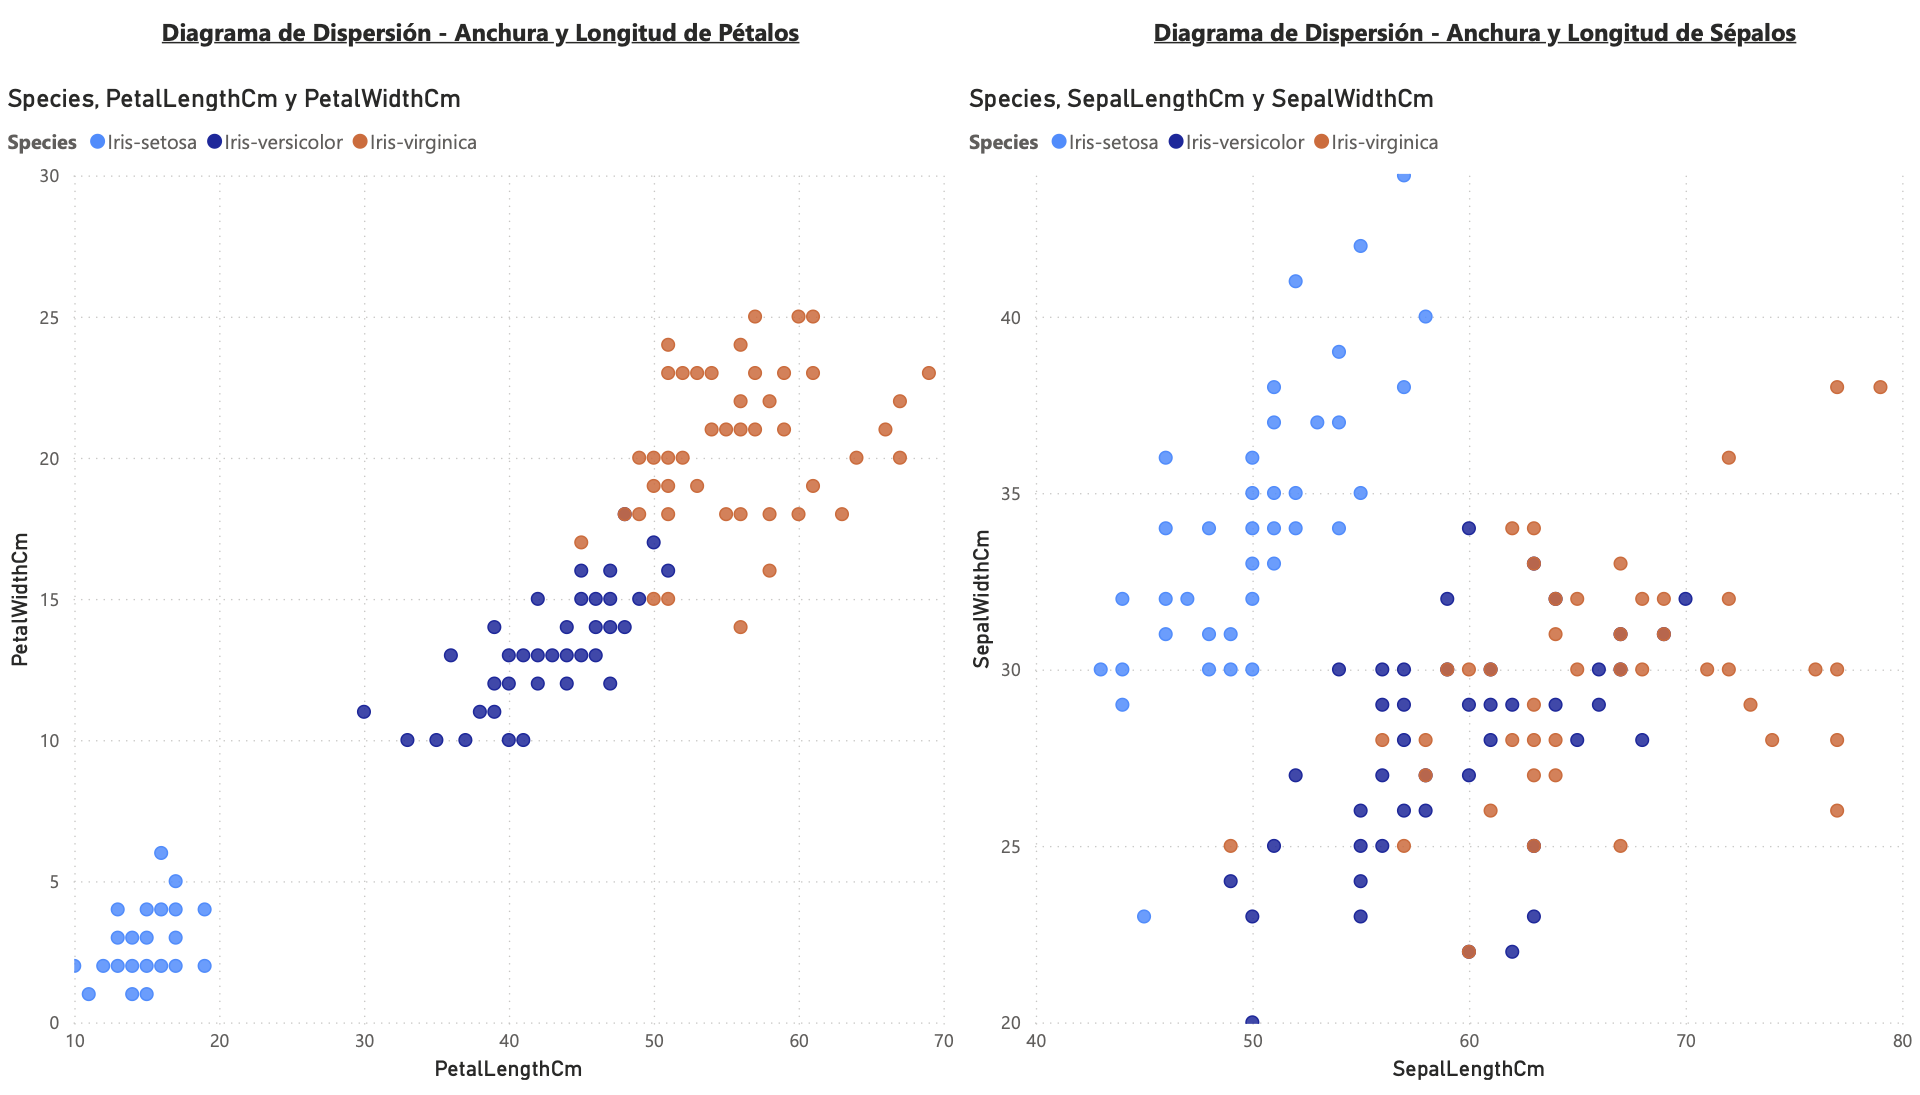

What the dashboard file says about the page in this screenshot:
{"tool":"powerbi","page":{"name":"Página 1","canvas":[1280,720],"ordinal":0},"visuals":[{"type":"scatterChart","fields":{"Series":["Iris.Species"],"X":["Iris.PetalLengthCm"],"Y":["Iris.PetalWidthCm"]},"box":[0,49.9,640.9,670.5],"z":0},{"type":"scatterChart","fields":{"X":["Iris.SepalLengthCm"],"Y":["Iris.SepalWidthCm"],"Series":["Iris.Species"]},"box":[640.9,49.9,639.1,670.5],"z":1000},{"type":"textbox","box":[24,0,592.9,49.9],"z":1001},{"type":"textbox","box":[687.1,0,592.9,49.9],"z":1002}]}

Visuals, with their boxes in screenshot pixels (x1, y1, x2, y2), scaled from the page's 1280x720 canvas onto the 1920x1095 screenshot:
scatterChart - Iris.Species x Iris.PetalLengthCm: [0, 76, 961, 1094]
scatterChart - Iris.SepalLengthCm x Iris.SepalWidthCm: [961, 76, 1919, 1094]
textbox: [36, 0, 925, 76]
textbox: [1031, 0, 1919, 76]
